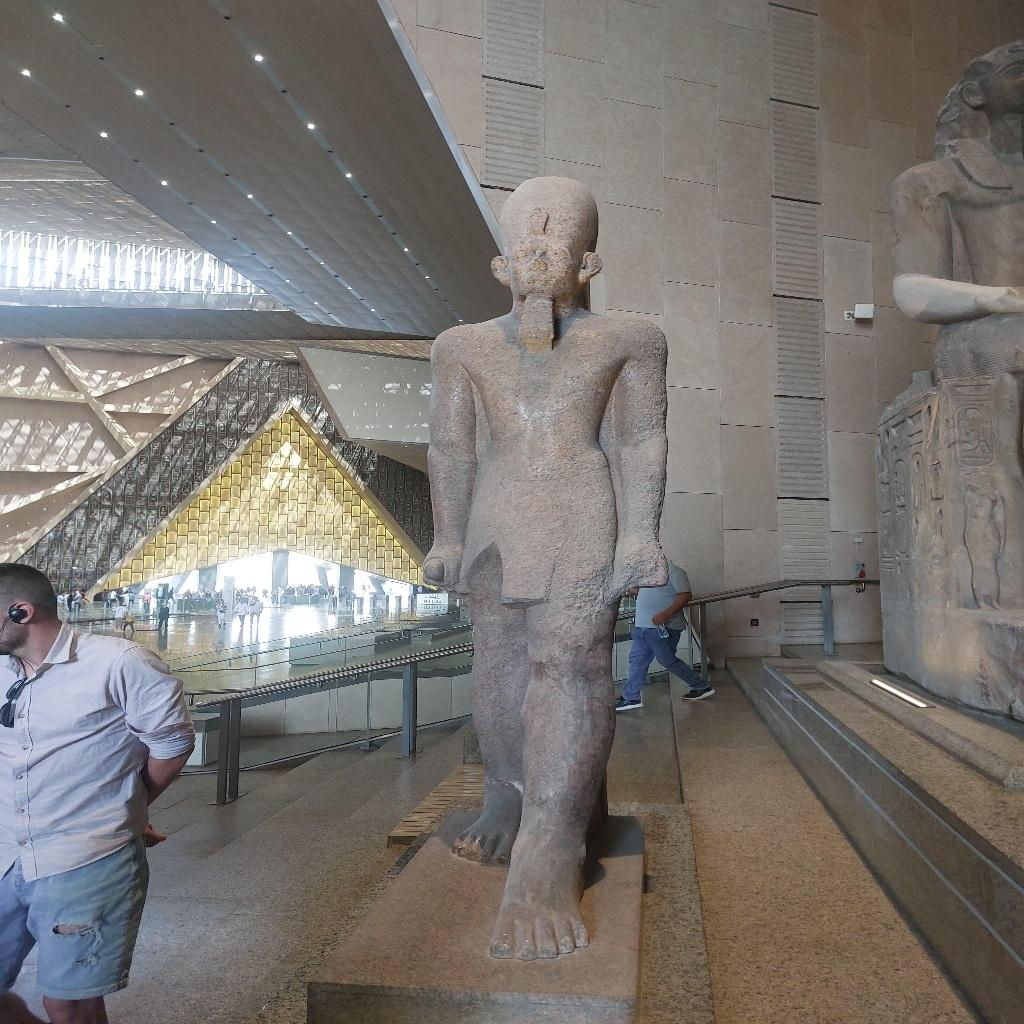Colossal Statue of King Senwosret IlI: (414, 172, 676, 963)
